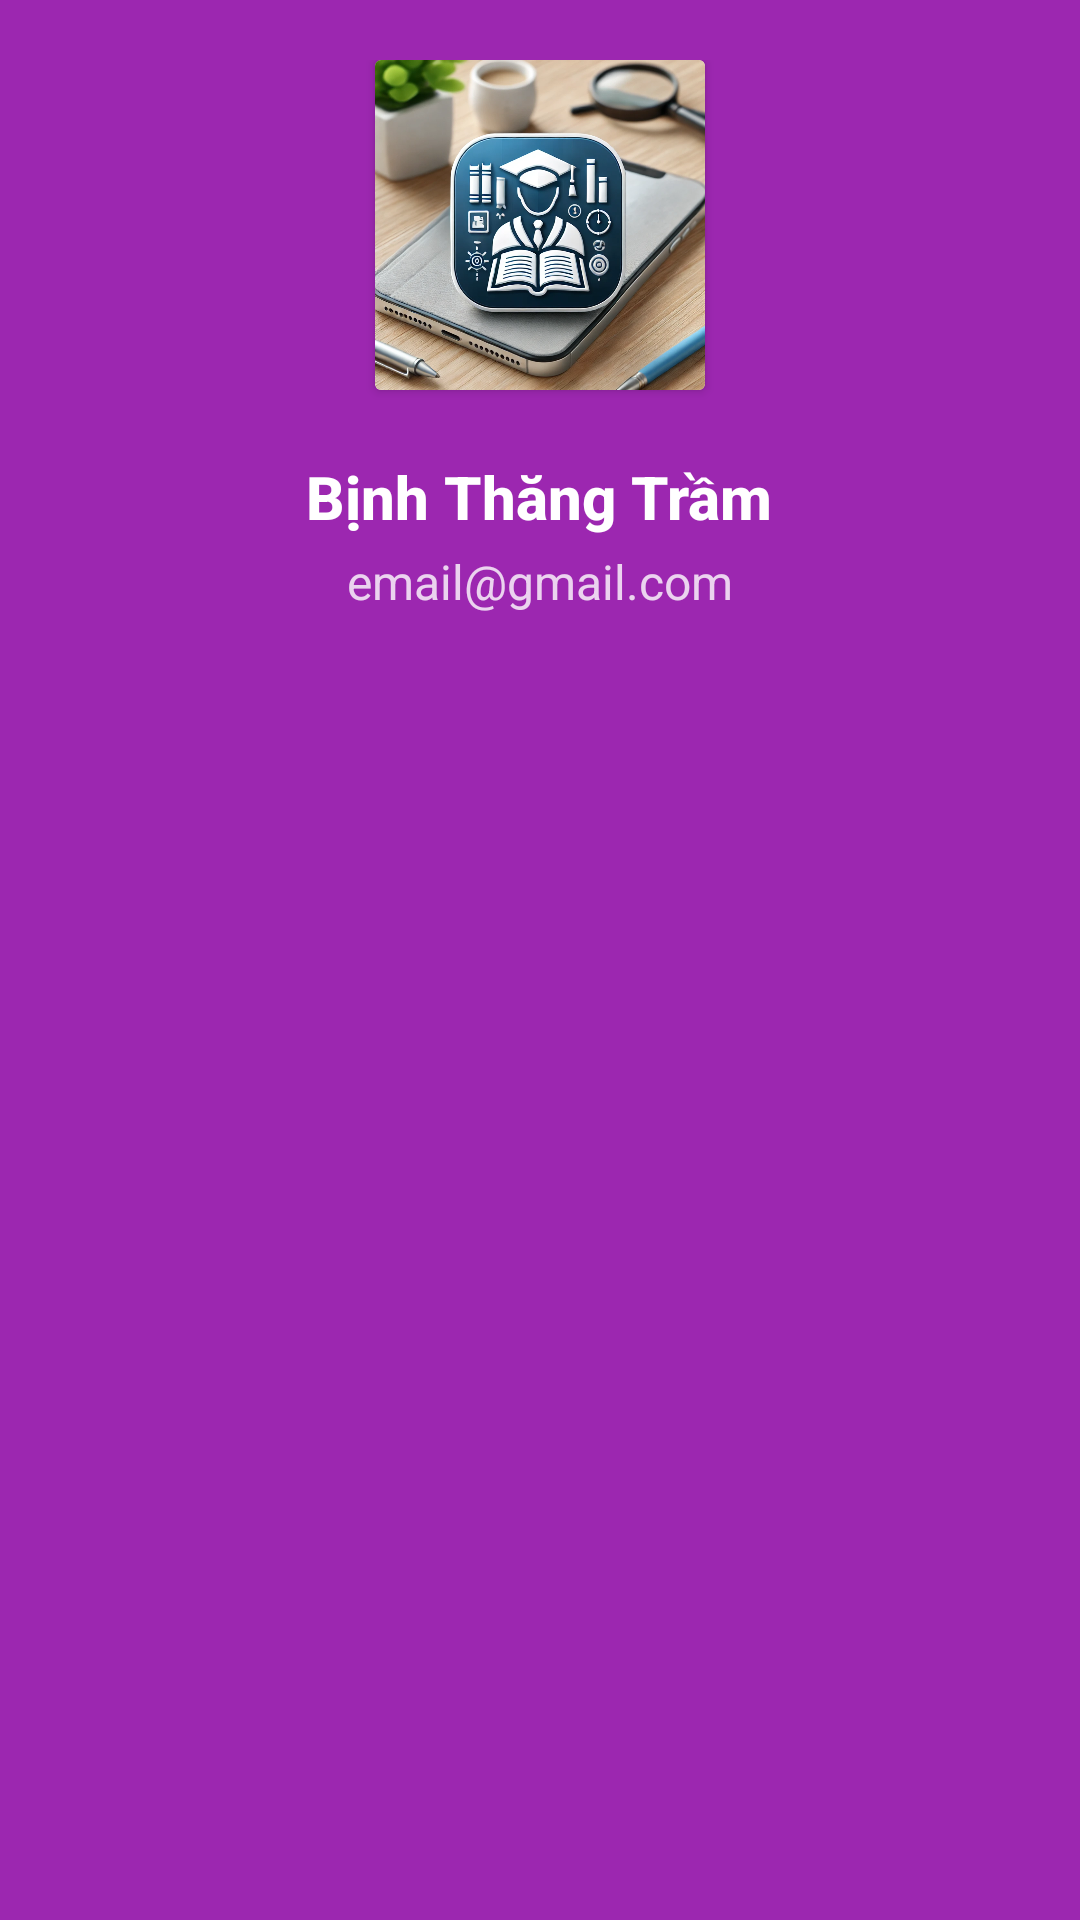

Icons on this 1080px x 1920px Android screen, each with its box as (x1, y1, x2, y2):
User Avatar: (375, 60, 705, 390)
